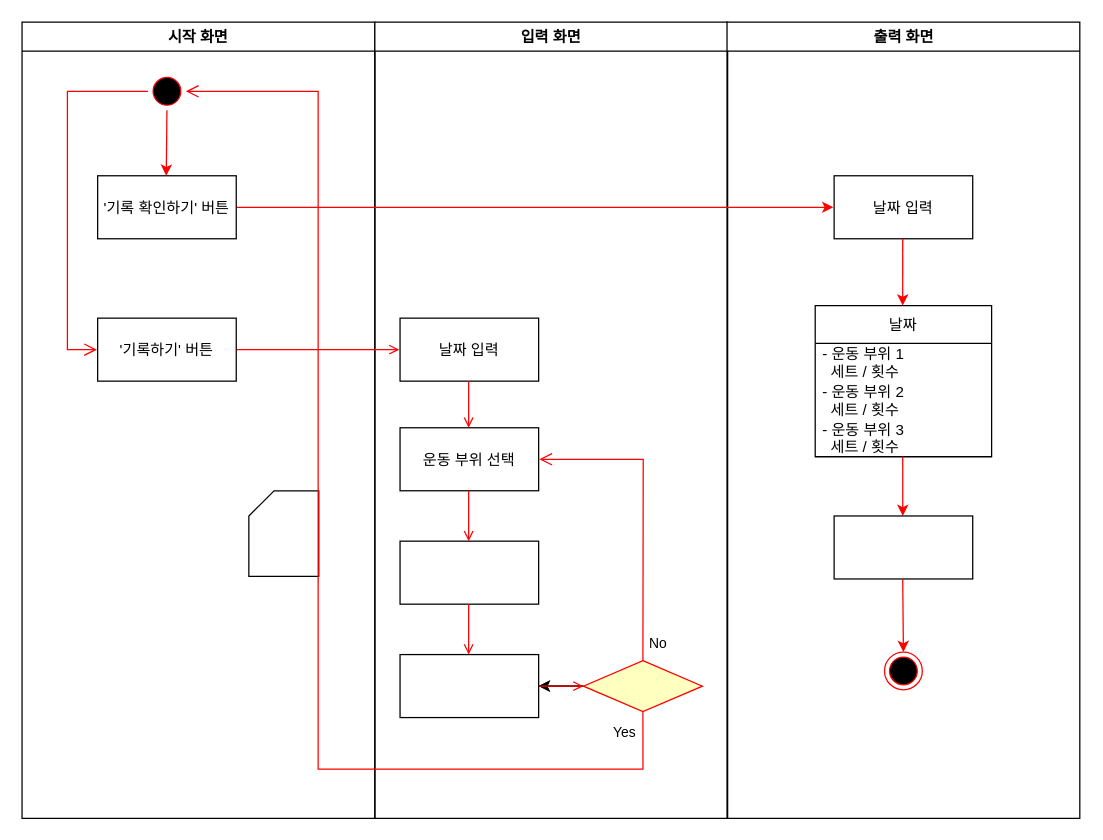
Image size: 1103x840. Some labels were removed from this diagram. The shapes that lost their labels are listed below. From the top down, each one's centre as x and y in pixels, then its label:
At (x=283, y=533): "누적된 데이터 저장".
At (x=903, y=547): "'확인' 버튼".
At (x=469, y=572): "세트 수, 횟수 입력".
At (x=469, y=685): "'추가하기' 버튼".
At (x=642, y=685): "입력 완료?".
